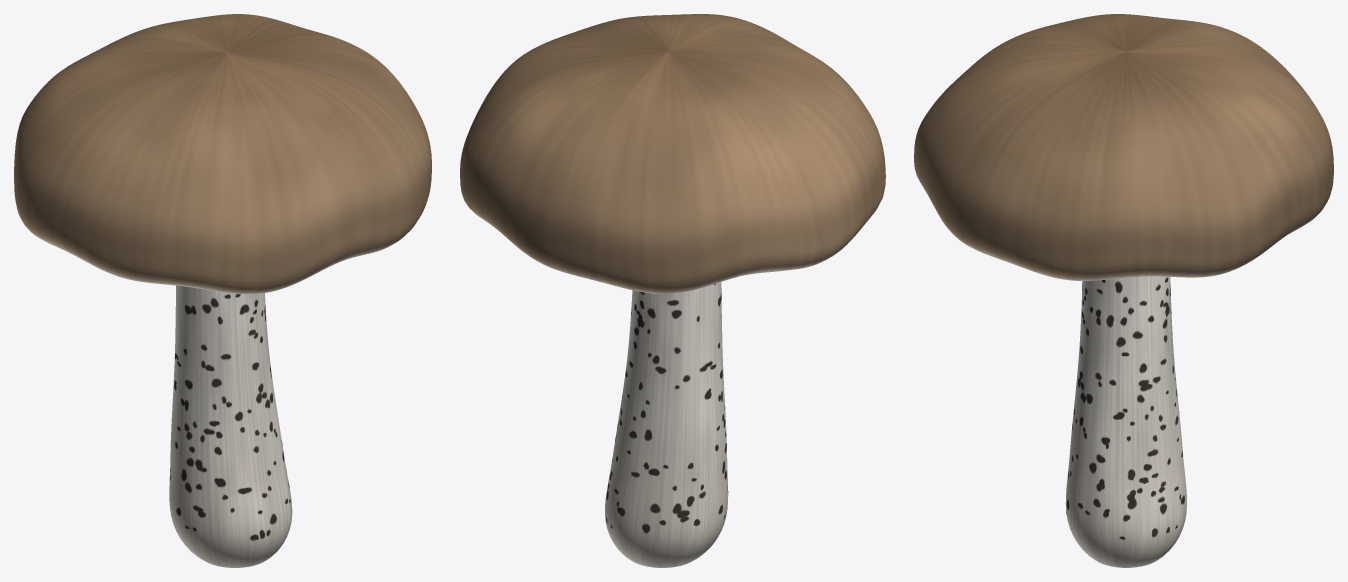
File: leccinum-scabrum-drawn.glb
3 renders of one model, left to right at view 1: azimuth 30°, elevation 25°; view 2: azimuth 150°, elevation 25°; view 3: azimuth 270°, elevation 25°, orthographic.
Size of the model in its own units: 0.7076 by 0.9325 by 0.7073.
1 material, 1 textured.
